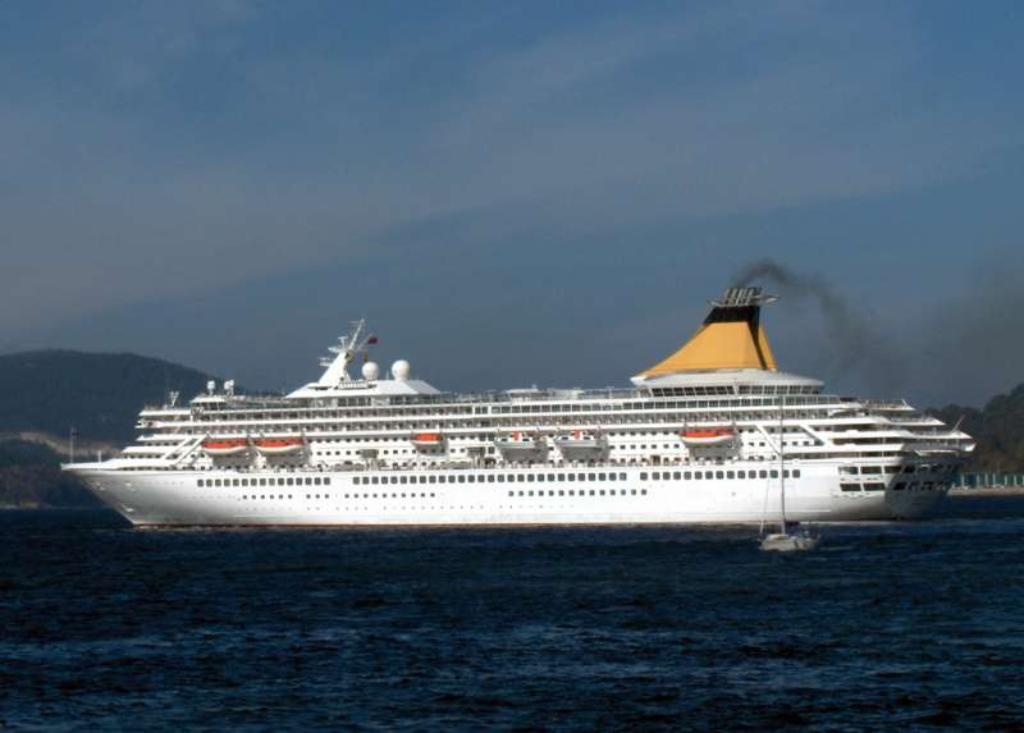PassengerShip: (52, 282, 990, 534)
